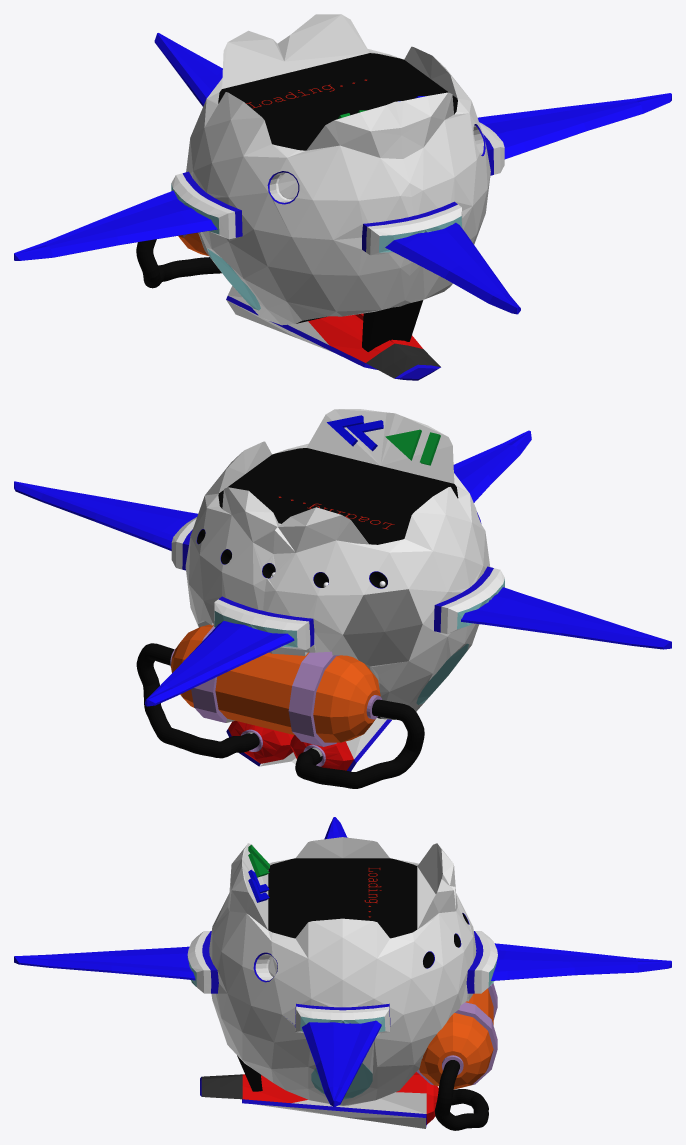
The model's file is Asist_1.fbx.
The picture shows the model from 3 angles, top to bottom: view 1: azimuth 30°, elevation 25°; view 2: azimuth 150°, elevation 25°; view 3: azimuth 270°, elevation 25°; orthographic projection. The views are drawn at different scales.
Parts seen in each view (by area): view 1: GeoSphere021, Loft009, Box022, Box023, Box025, Box024; view 2: GeoSphere021, Loft009, Box022, Box023, Box024, Box025, Line013, Line012; view 3: GeoSphere021, Loft009, Box024, Box023, Box025.
Part boxes in pixels (<box>): GeoSphere021: <box>171,14,504,351</box>; Loft009: <box>136,232,440,380</box>; Box022: <box>14,190,217,260</box>; Box023: <box>478,93,671,159</box>; Box025: <box>385,222,520,314</box>; Box024: <box>154,33,222,106</box>; GeoSphere021: <box>171,409,504,719</box>; Loft009: <box>136,624,424,788</box>; Box022: <box>461,587,671,649</box>; Box023: <box>14,481,197,550</box>; Box024: <box>145,621,294,706</box>; Box025: <box>453,430,531,502</box>; Line013: <box>327,415,383,451</box>; Line012: <box>385,429,421,460</box>; GeoSphere021: <box>187,837,497,1105</box>; Loft009: <box>200,983,497,1130</box>; Box024: <box>491,943,671,980</box>; Box023: <box>302,1020,381,1106</box>; Box025: <box>14,946,195,980</box>.
Bounding box in the file's own units: 496 × 206 × 485.
